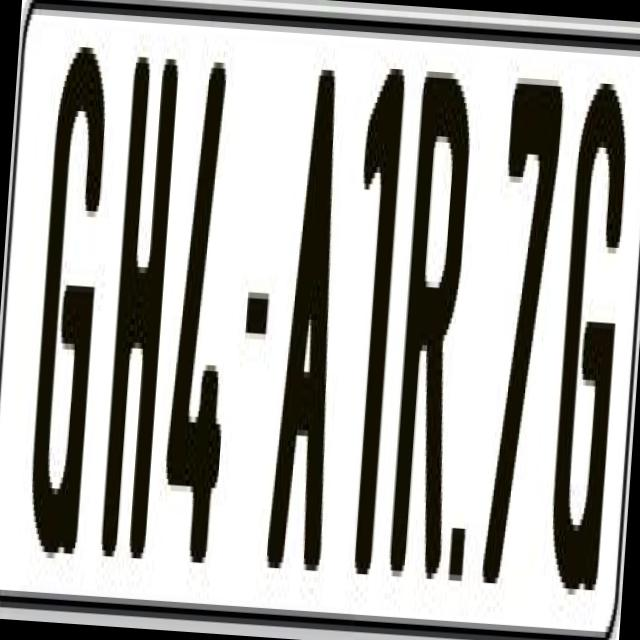1: (332, 49, 408, 569)
4: (153, 60, 244, 592)
7: (476, 76, 563, 614)
A: (264, 50, 354, 553)
G: (20, 39, 114, 572), (541, 76, 629, 614)
H: (95, 45, 182, 582)
R: (386, 70, 472, 584)
